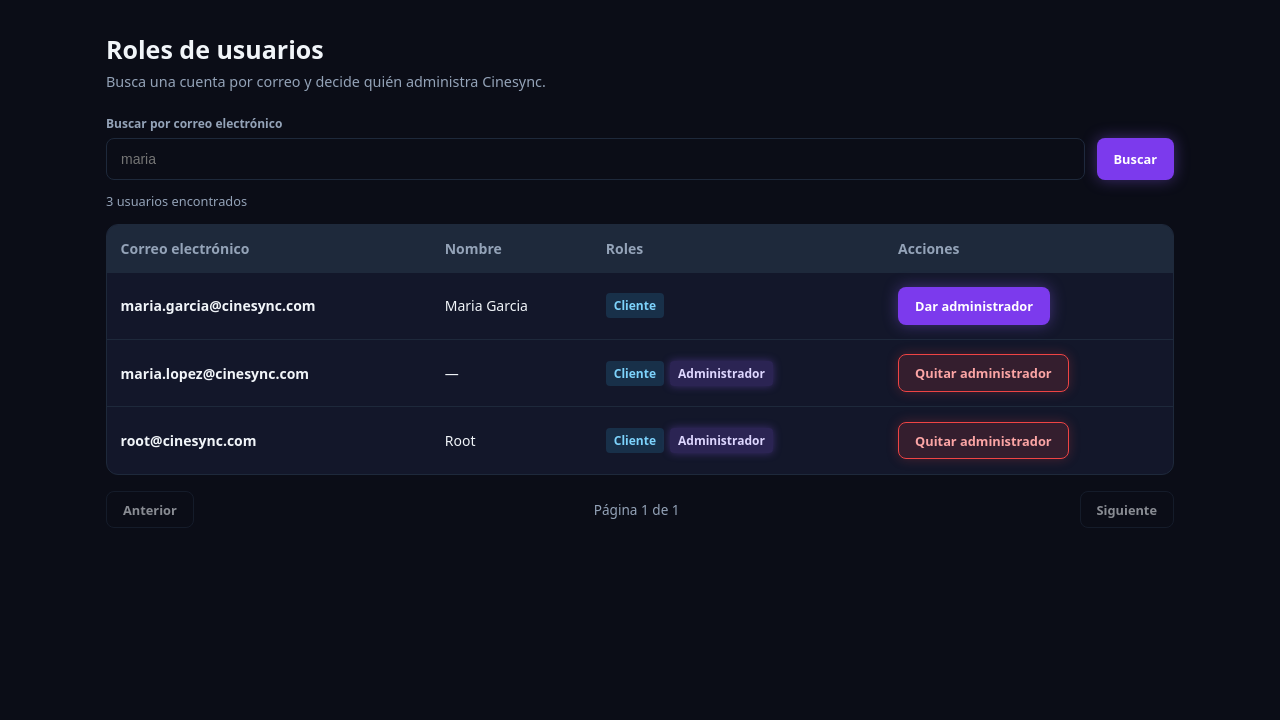
AdminUsersPageComponent › changing a role › tells the person that removing ADMIN ends the session of that user at once
The image size is (1280, 720).
Step 1. Click the button "Quitar administrador" in the row of "maria.lopez@cinesync.com" → [983, 373], box [898,354,1069,392]
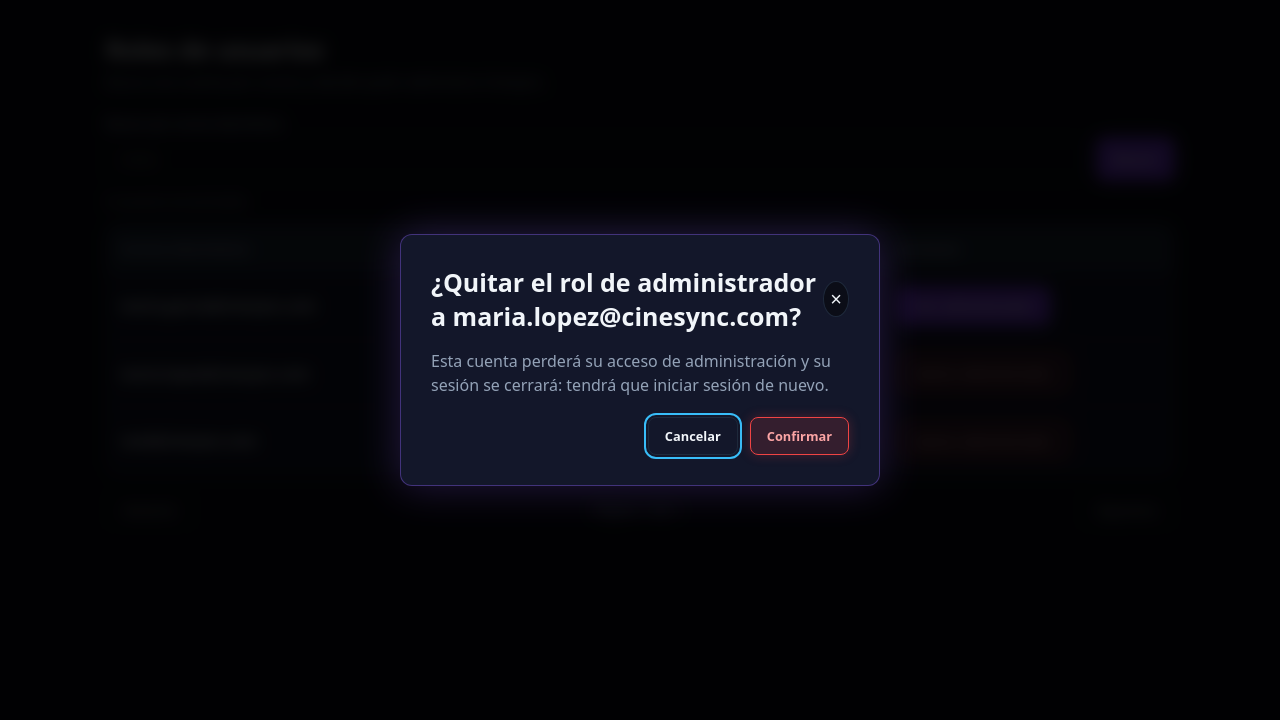
Result: the text with class "dialog-text" shows "Esta cuenta perderá su acceso de administración y su sesión se cerrará: tendrá que iniciar sesión de nuevo." at [431,350,831,396]
